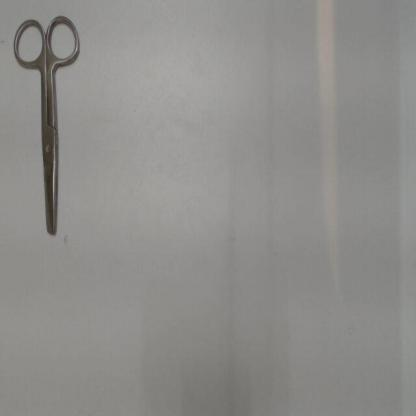Dressing Scissors: (7, 7, 88, 243)
